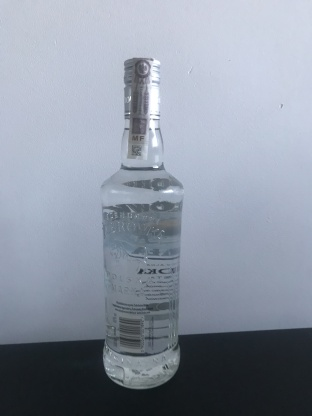nakretka: (121, 53, 162, 123)
